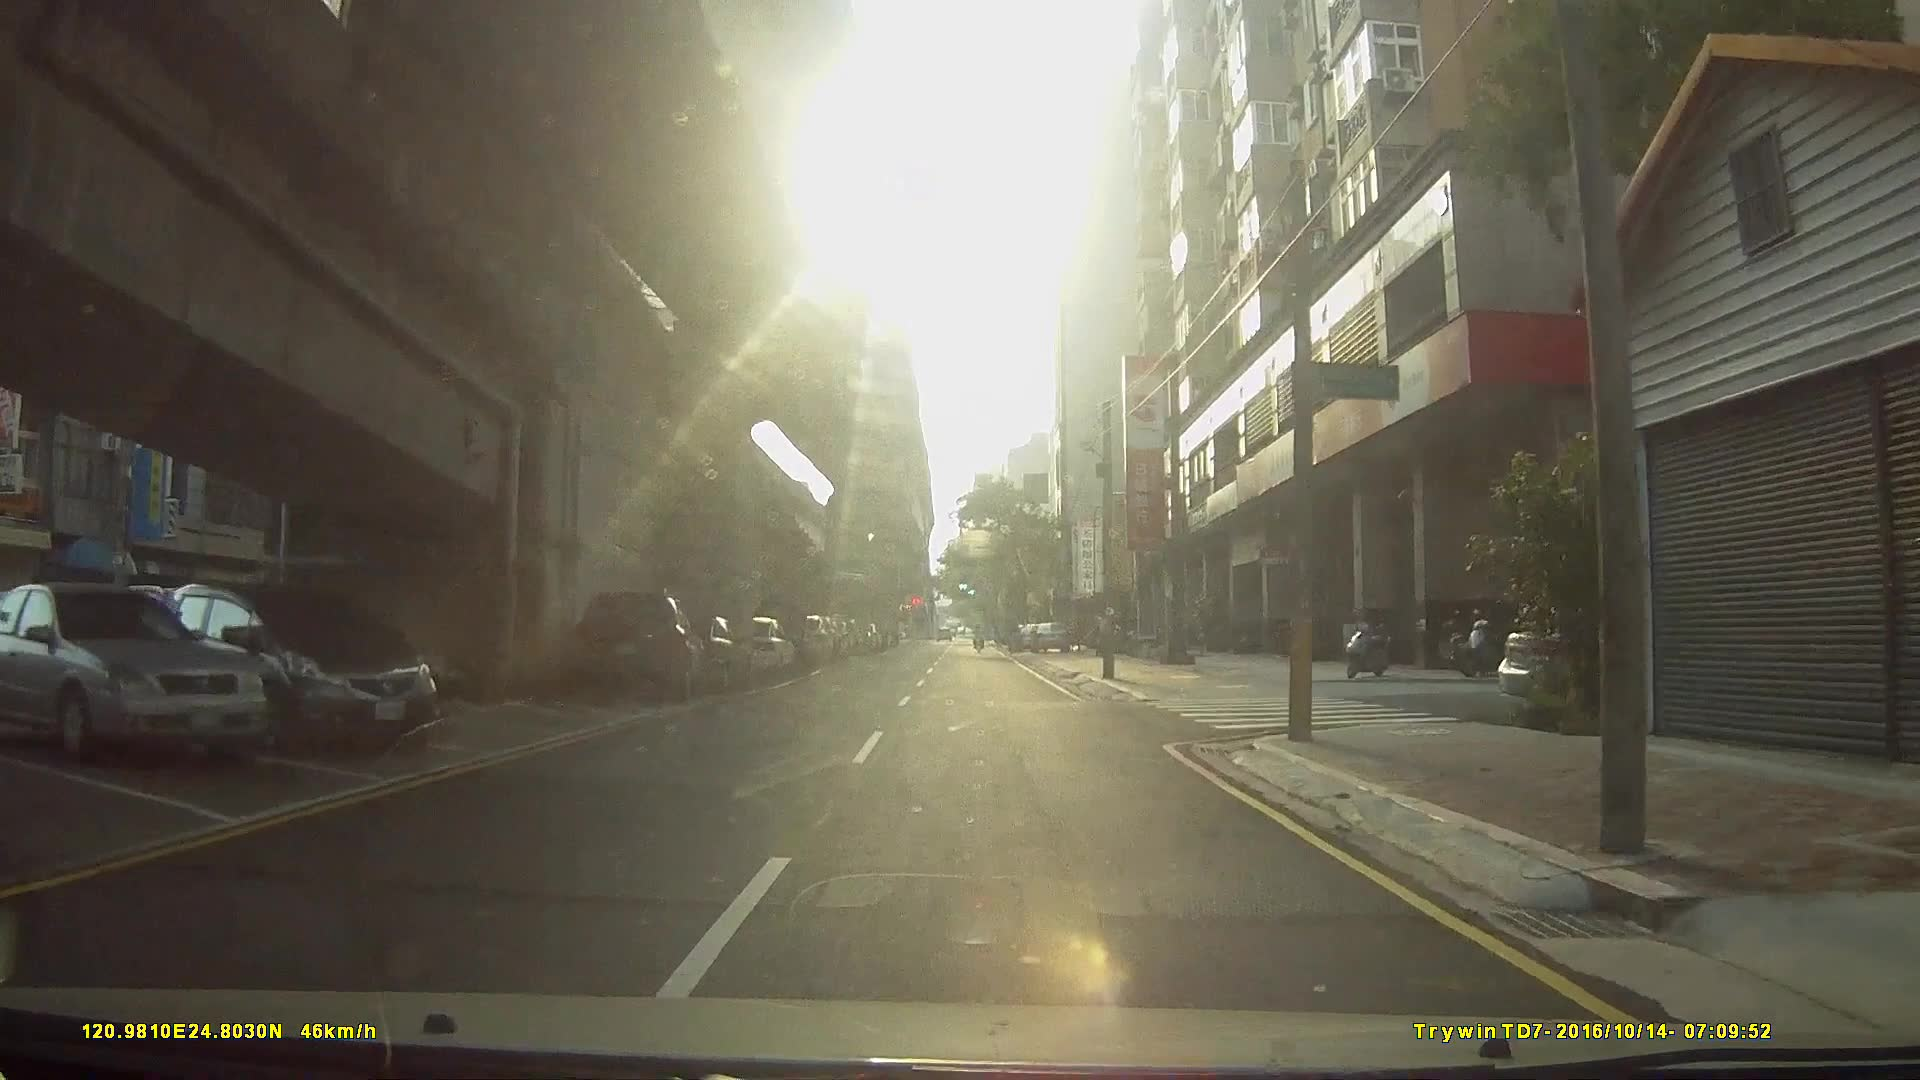vehicle: (152, 578, 438, 752), (0, 582, 266, 764), (567, 588, 708, 702), (1029, 620, 1068, 655)
